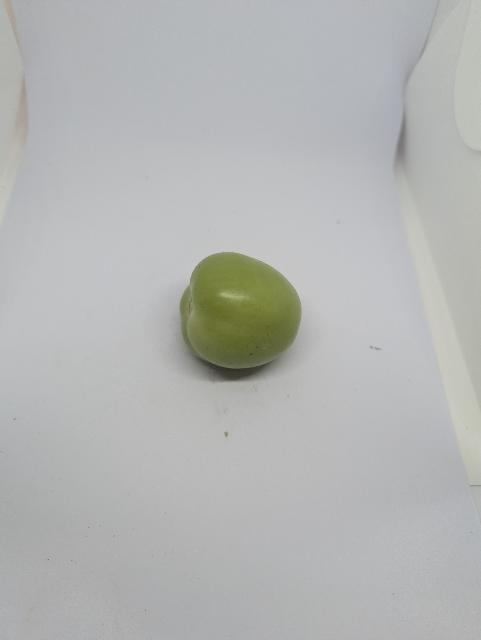green: (162, 233, 318, 397)
